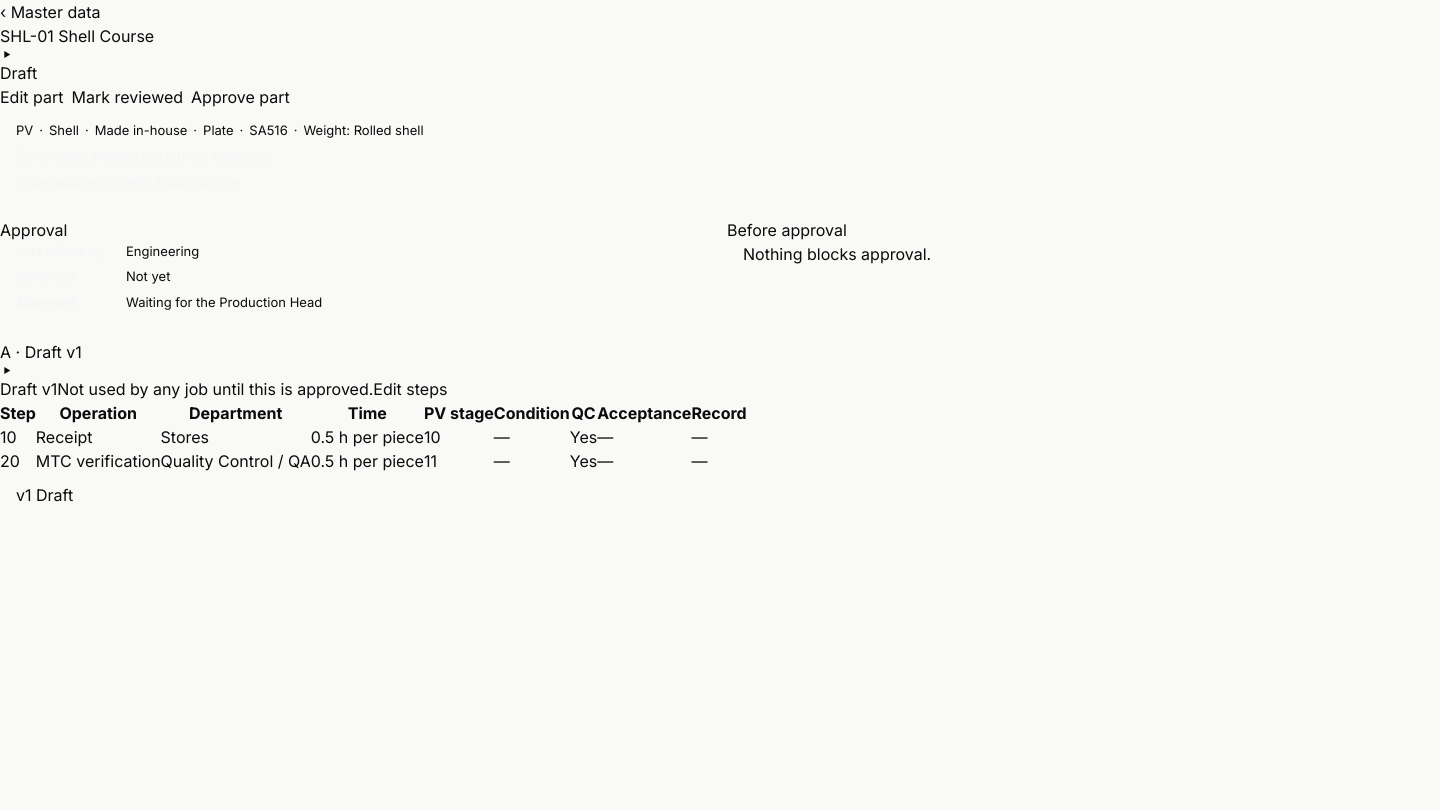
Scenario: approve flow › a refusal with blockers closes the dialog, says how many, and refreshes the readiness panel
What coordinates should you click on to do the following:
click the button "Approve part"
I would click on:
 (240, 97)
Its box is [191,85,290,109].
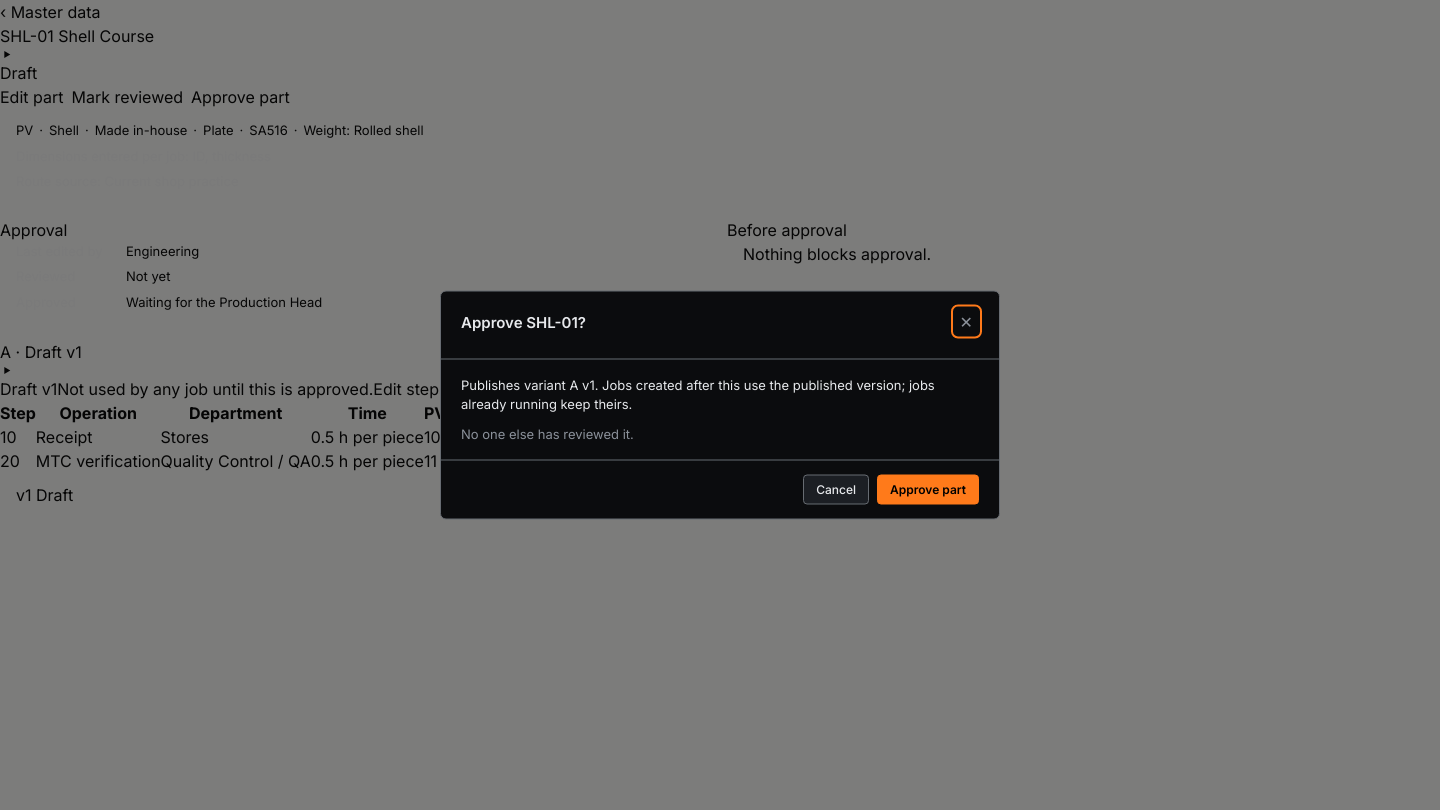
What coordinates should you click on to do the following:
click the button "Approve part"
I would click on:
 (928, 490)
Its box is [877,474,979,504].
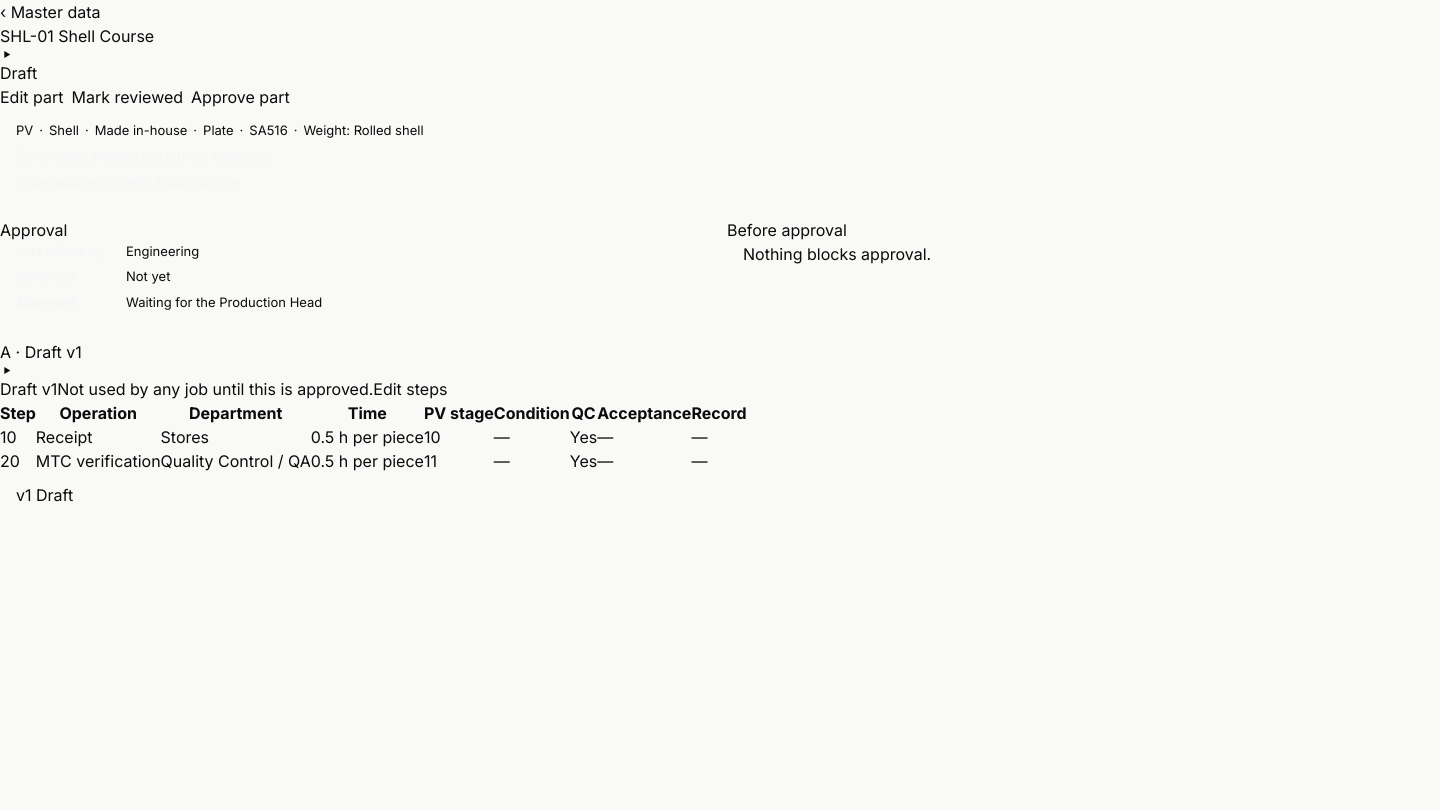
expect the dialog is gone: met
